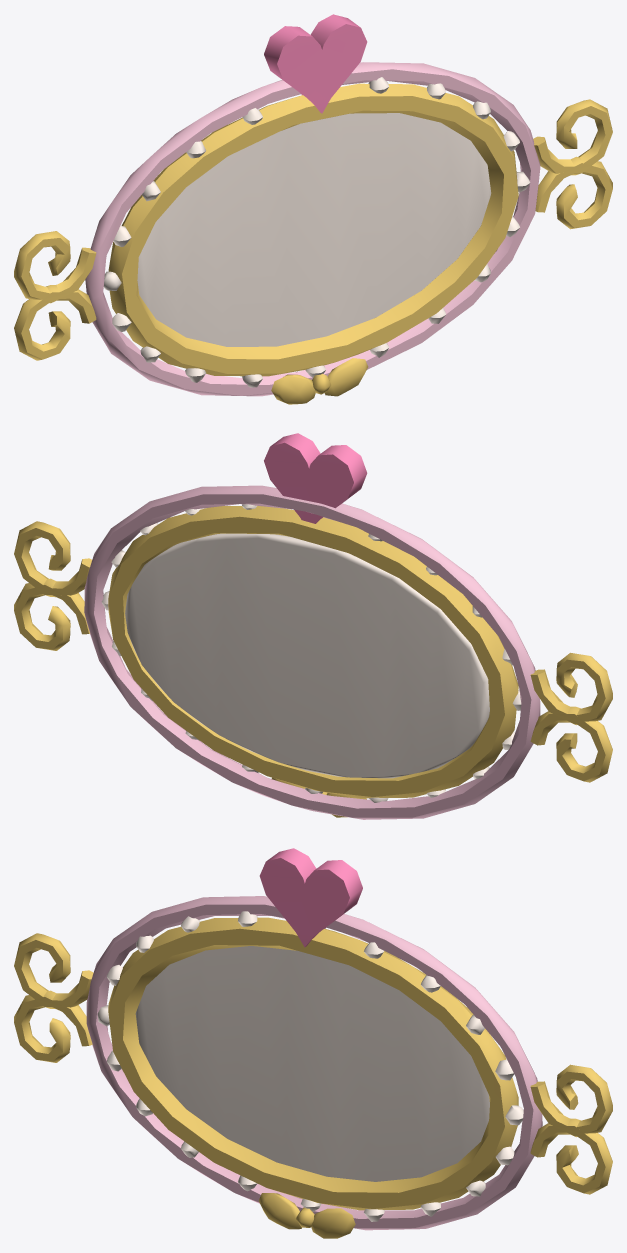
File: sign_frame.glb
The picture shows the model from 3 angles, top to bottom: view 1: azimuth 30°, elevation 25°; view 2: azimuth 150°, elevation 25°; view 3: azimuth 330°, elevation 25°; orthographic projection.
Visible parts, largest first — view 1: sign_frame; view 2: sign_frame; view 3: sign_frame.
Boxes of the visible parts, left/top/right/bottom form: sign_frame: left=14, top=14, right=612, bottom=404; sign_frame: left=14, top=433, right=612, bottom=819; sign_frame: left=14, top=848, right=612, bottom=1238.
Bounding box in the file's own units: 3.28 × 1.95 × 0.1978.
